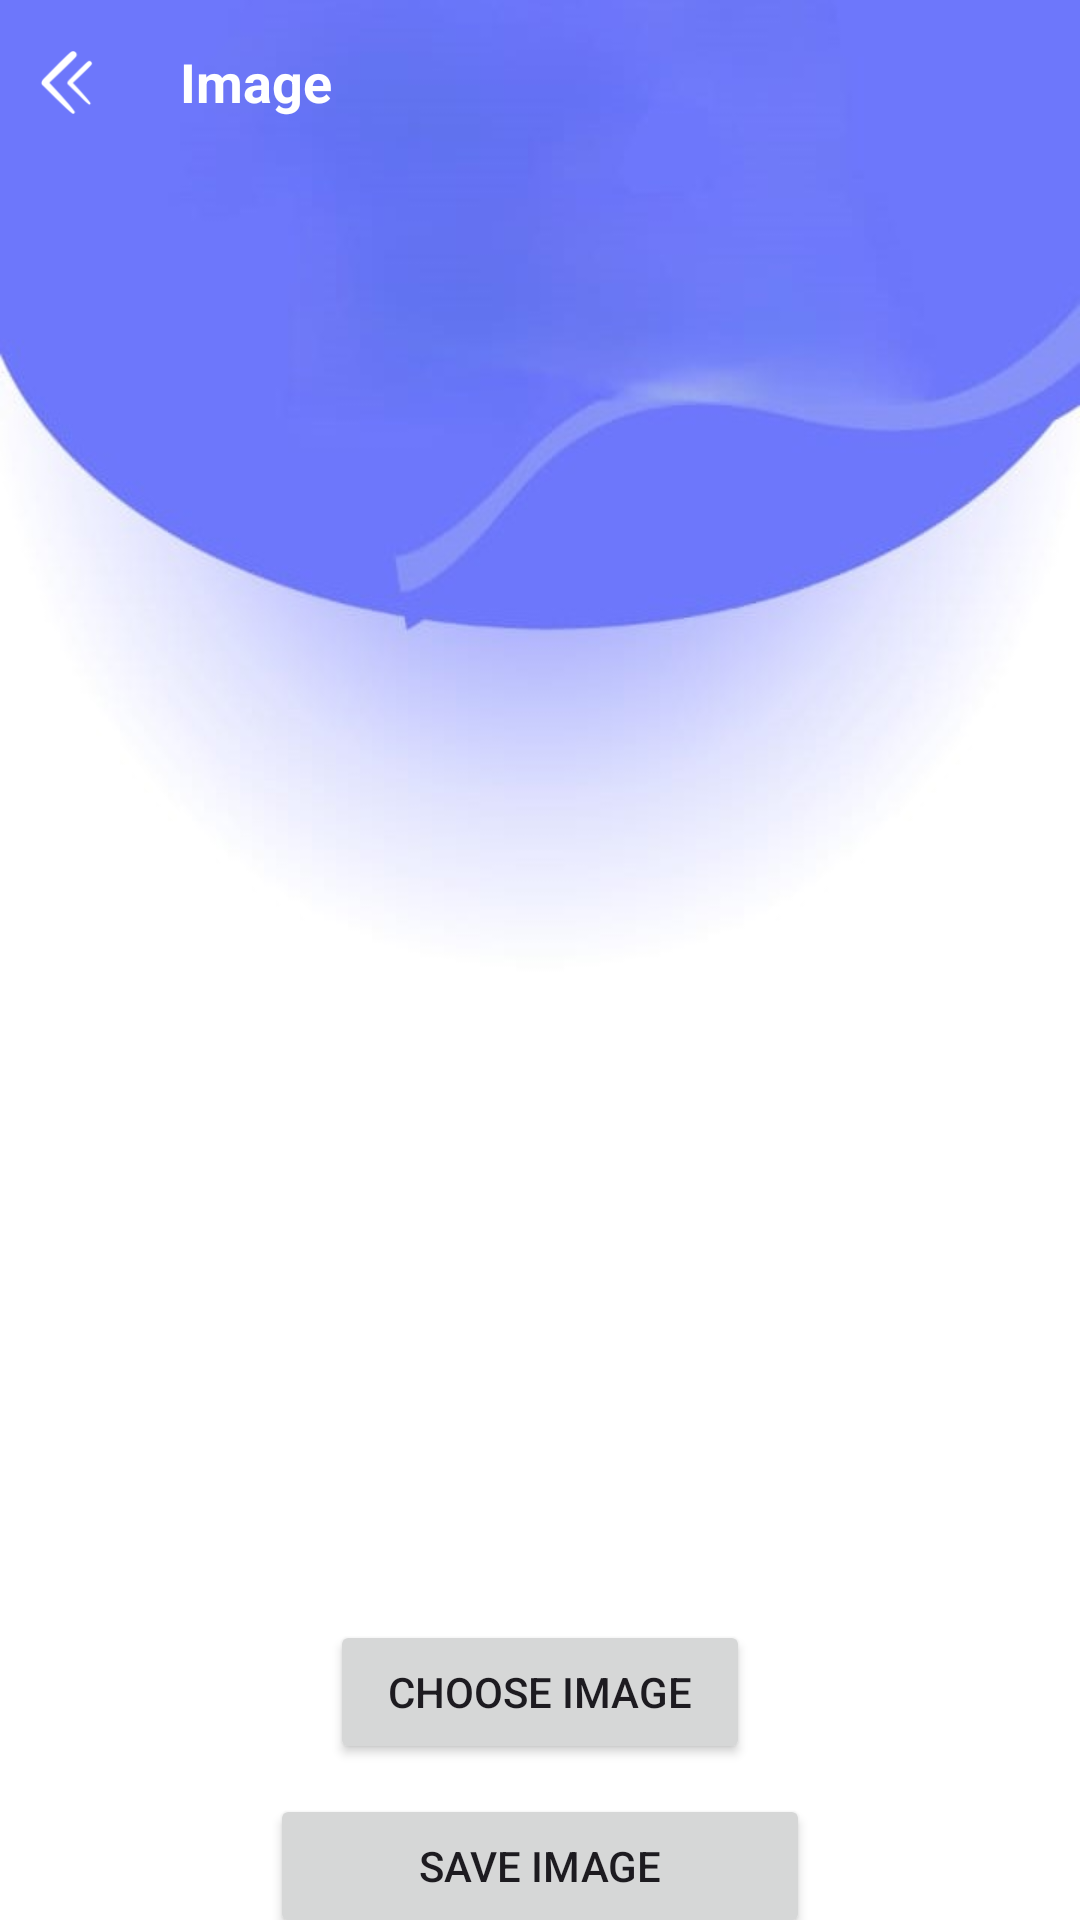

Named icons in this screenshot (1080w x 1920h) and their bounding boxes, (x1, y1, x2, y2):
back: (41, 51, 92, 114)
